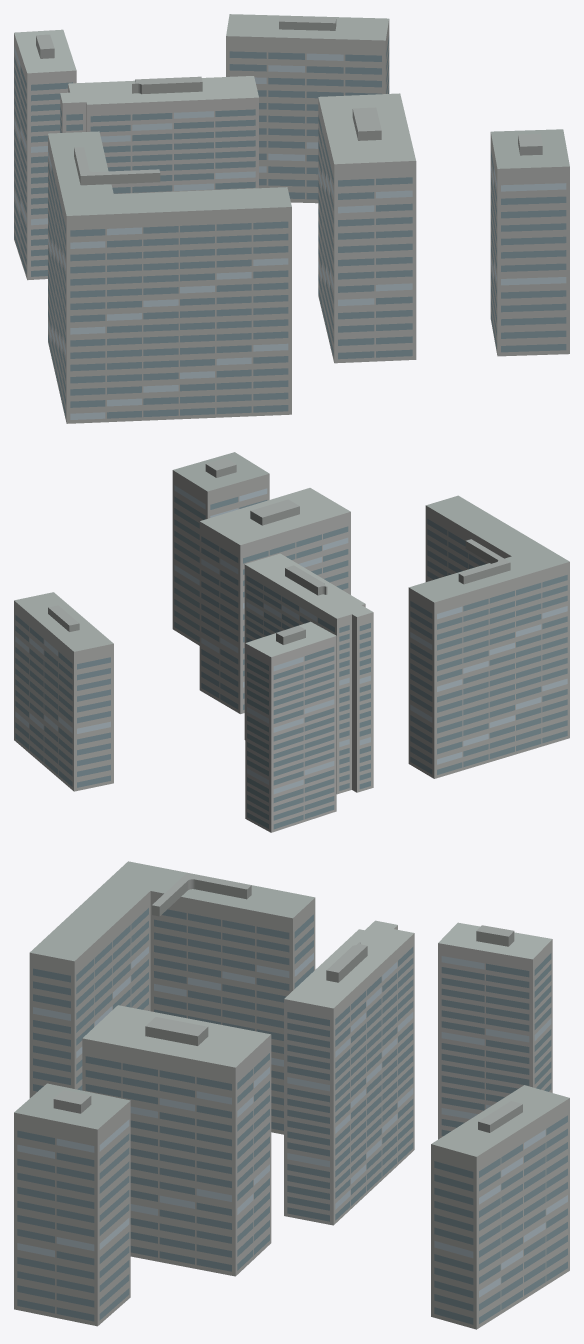
Rendered from apt-a15783806.glb.
The picture shows the model from 3 angles, top to bottom: view 1: azimuth 30°, elevation 25°; view 2: azimuth 150°, elevation 25°; view 3: azimuth 270°, elevation 25°; orthographic projection. The views are drawn at different scales.
Visible parts, largest first — view 1: apt-a15783806; view 2: apt-a15783806; view 3: apt-a15783806.
Part boxes in pixels (box(x1,y1,x2,y2)): apt-a15783806: box(14, 14, 569, 423); apt-a15783806: box(14, 452, 569, 832); apt-a15783806: box(14, 861, 569, 1329).
Size of the model in its own units: 128 by 54.18 by 120.
